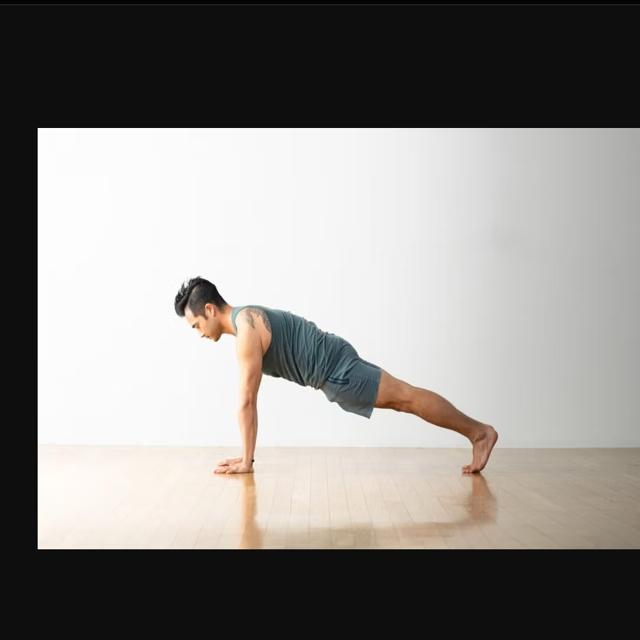Plank_Pose: (171, 271, 510, 484)
